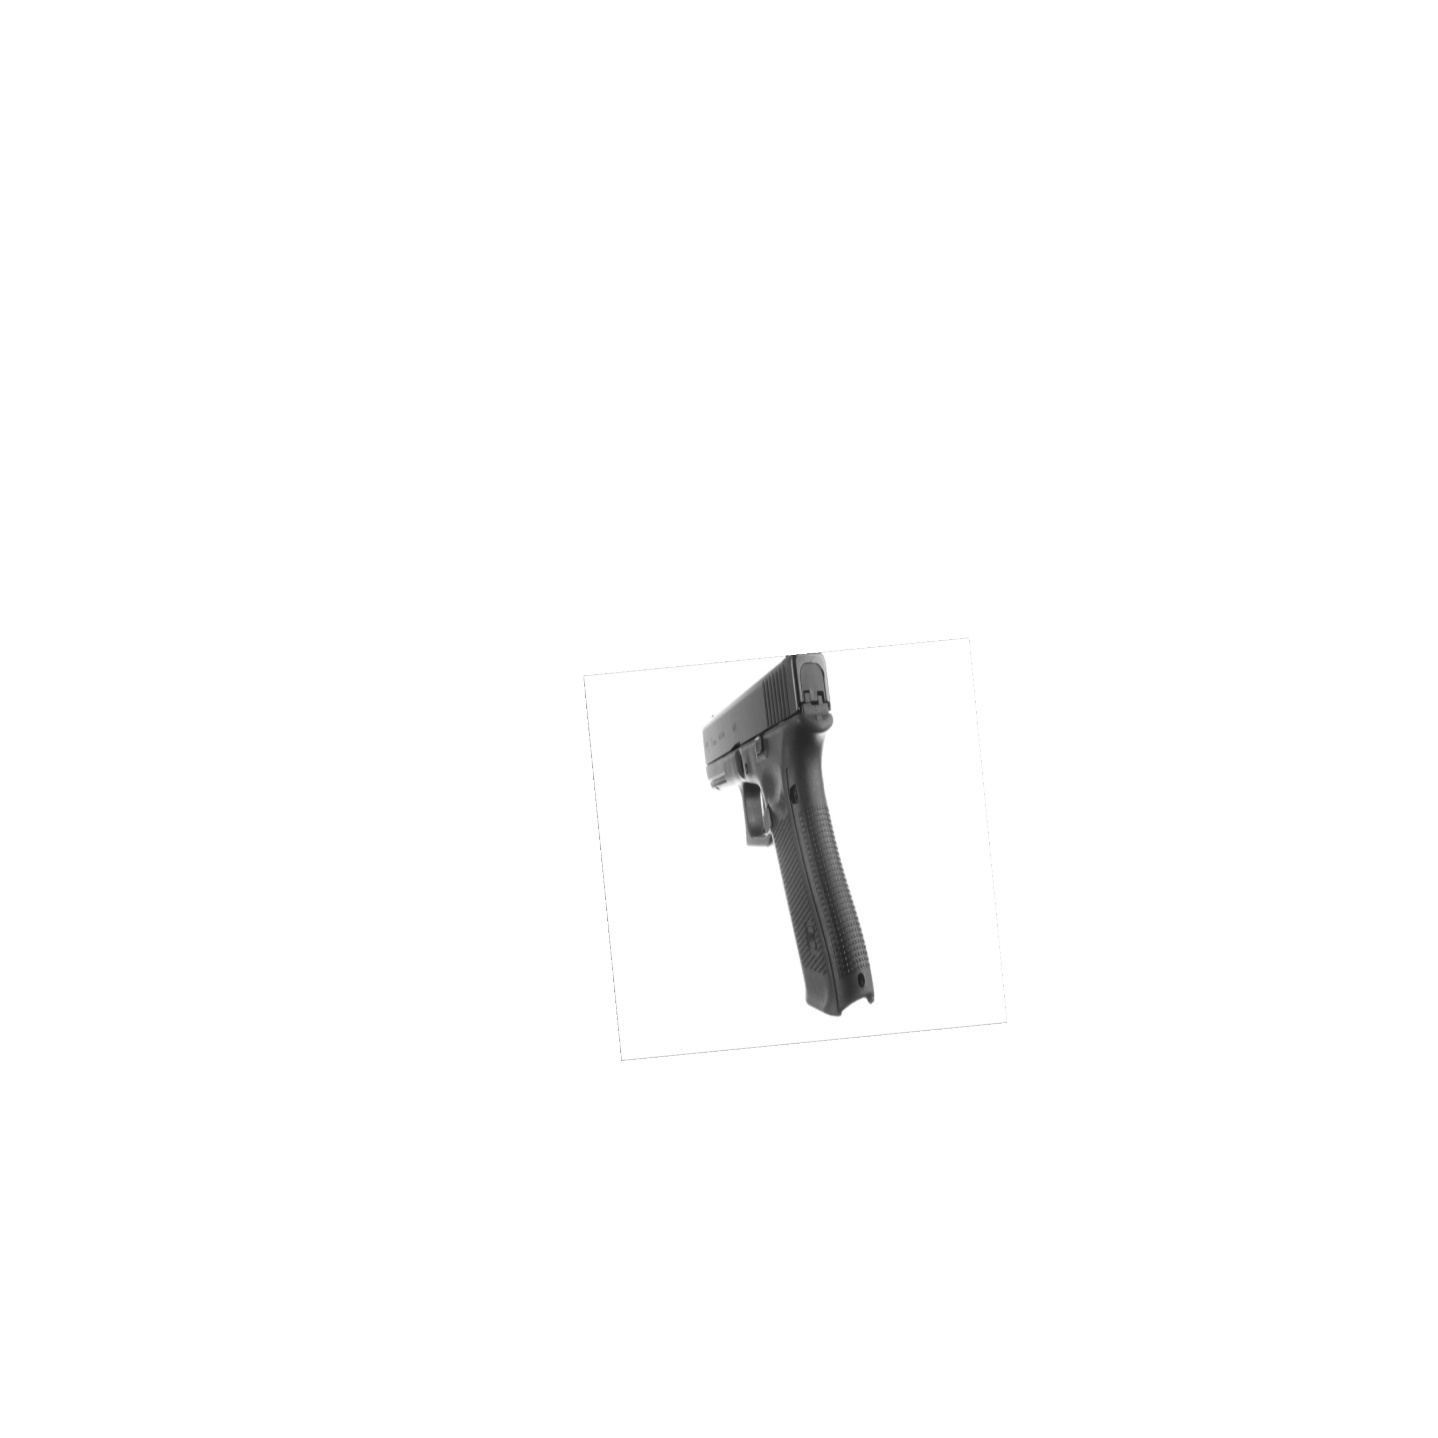gun: (693, 643, 892, 1028)
